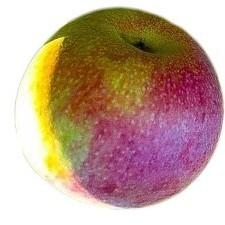fruit: (11, 7, 222, 209)
